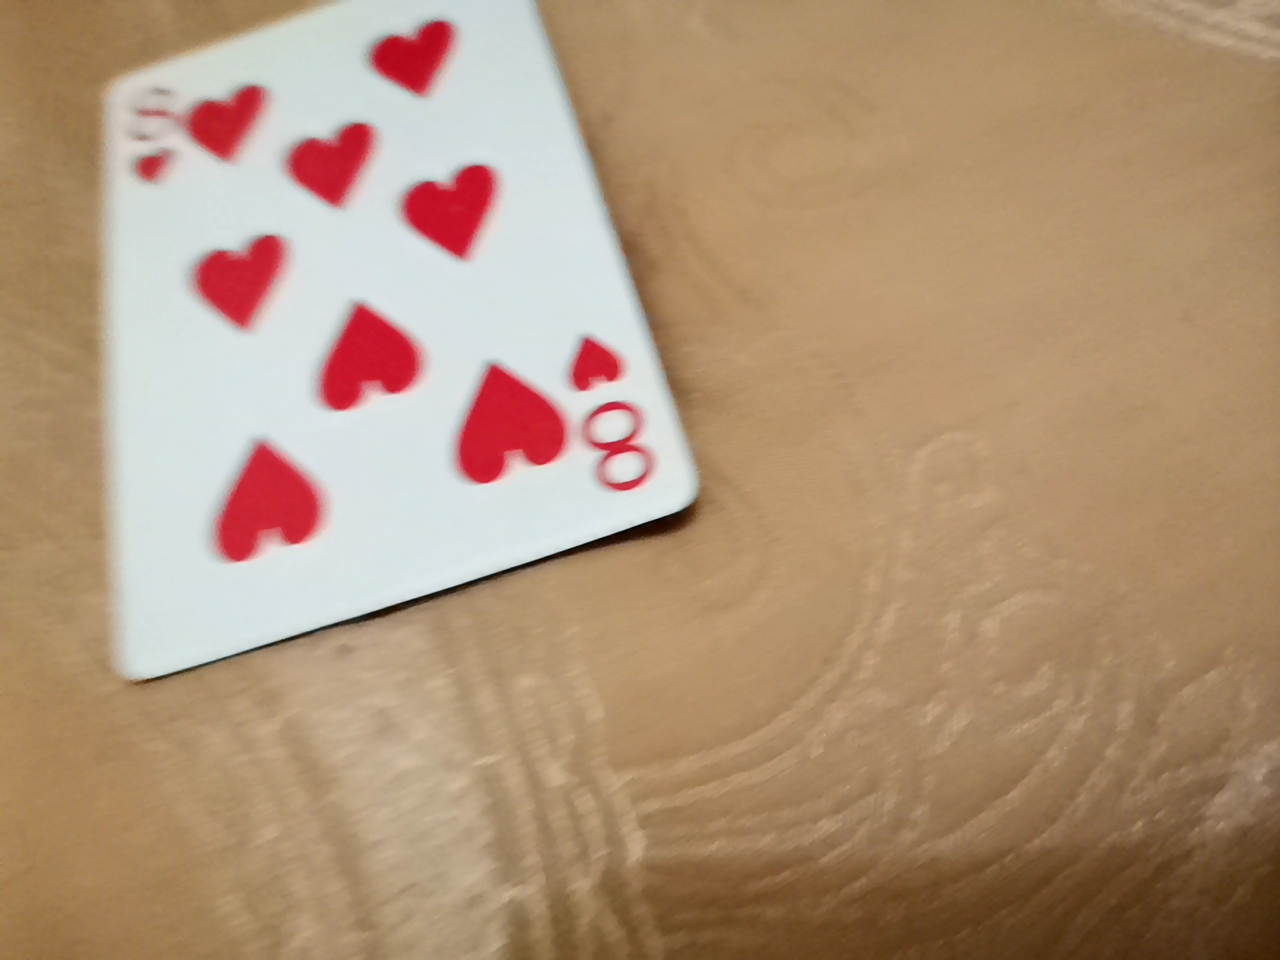hx 8: (10, 6, 594, 714)
